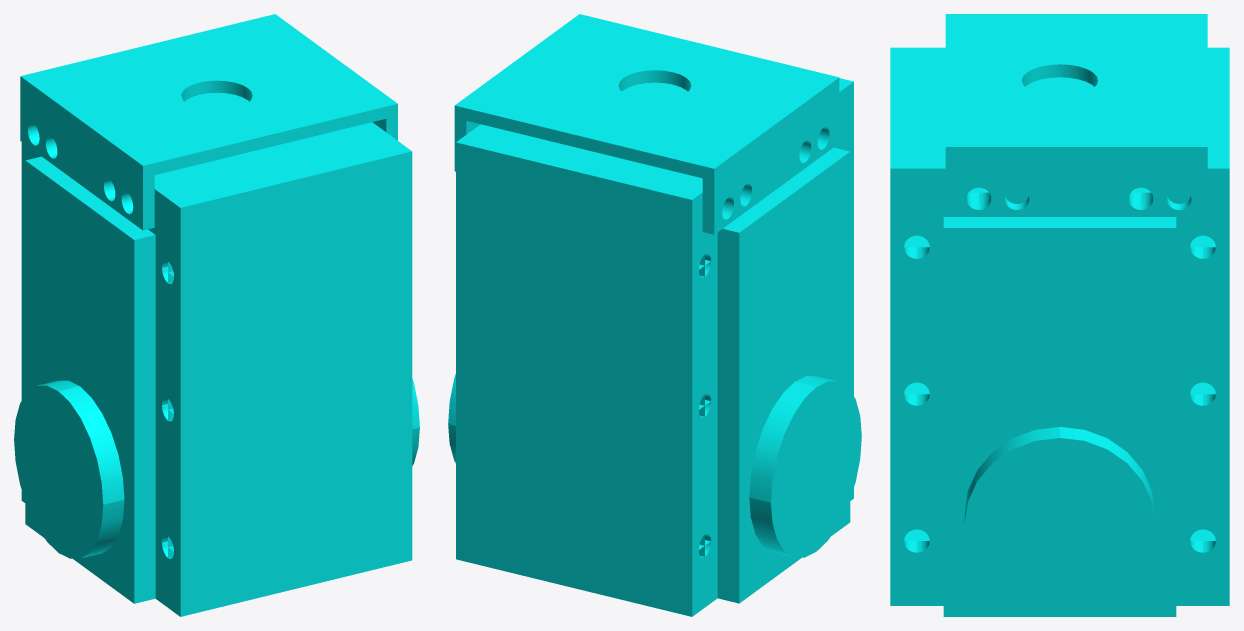
3 views of the same model, side by side, from view 1: azimuth 30°, elevation 25°; view 2: azimuth 150°, elevation 25°; view 3: azimuth 270°, elevation 25° (orthographic). The views are drawn at different scales.
Parts seen in each view (by area): view 1: MX-28T, FR07-S101 (×2), group_1; view 2: MX-28T, FR07-S101 (×2), group_1; view 3: MX-28T (×7), FR07-S101 (×2), group_1.
Boxes of the visible parts, bbox=[...] form: MX-28T: bbox=[21, 92, 412, 616]; FR07-S101 (×2): bbox=[20, 14, 397, 230]; group_1: bbox=[14, 378, 419, 558]; MX-28T: bbox=[456, 78, 853, 616]; FR07-S101 (×2): bbox=[454, 14, 839, 234]; group_1: bbox=[448, 373, 861, 557]; MX-28T (×7): bbox=[890, 47, 1229, 616]; FR07-S101 (×2): bbox=[945, 14, 1207, 215]; group_1: bbox=[964, 427, 1155, 610].
Bounding box in the file's own units: 1.61 × 1.4 × 2.12.
